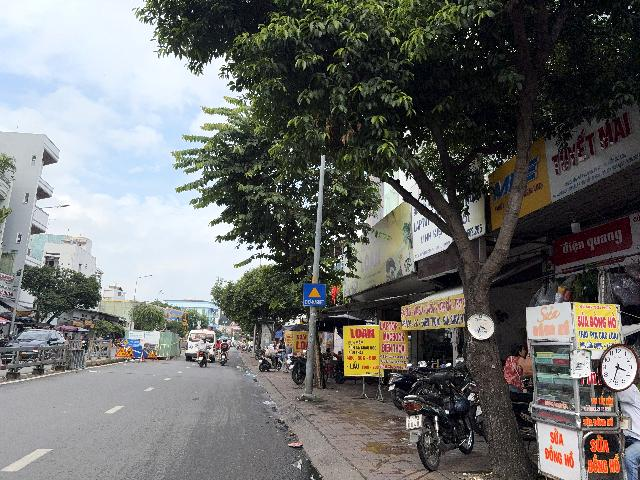khu-vuc-cho-phia-truoc: (303, 284, 326, 306)
